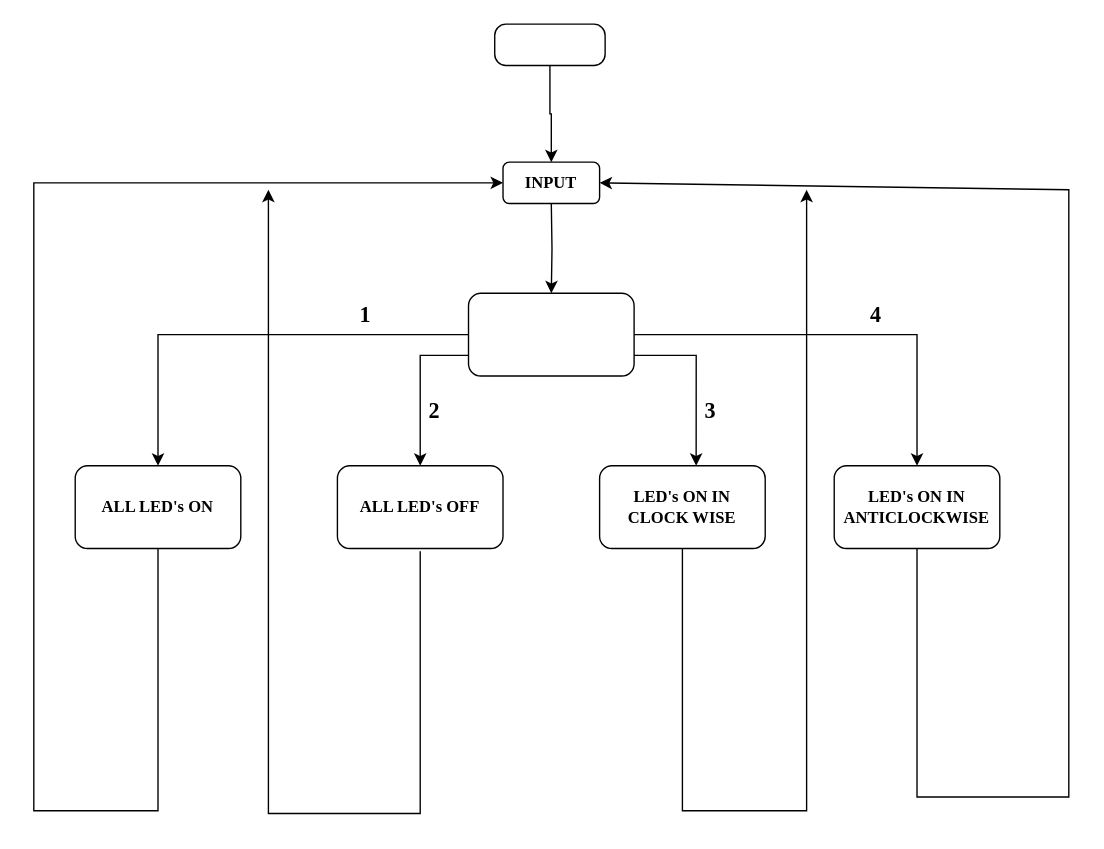
Image size: 1104x849. Some labels were removed from this diagram. The shapes that lost their labels are listed below. From the top down, each one's centre as x and y in pixels, then its label:
At pixel 549 44: "USER".
At pixel 550 334: "PRESS BUTTON 1/2/3/4/ TIMES".
